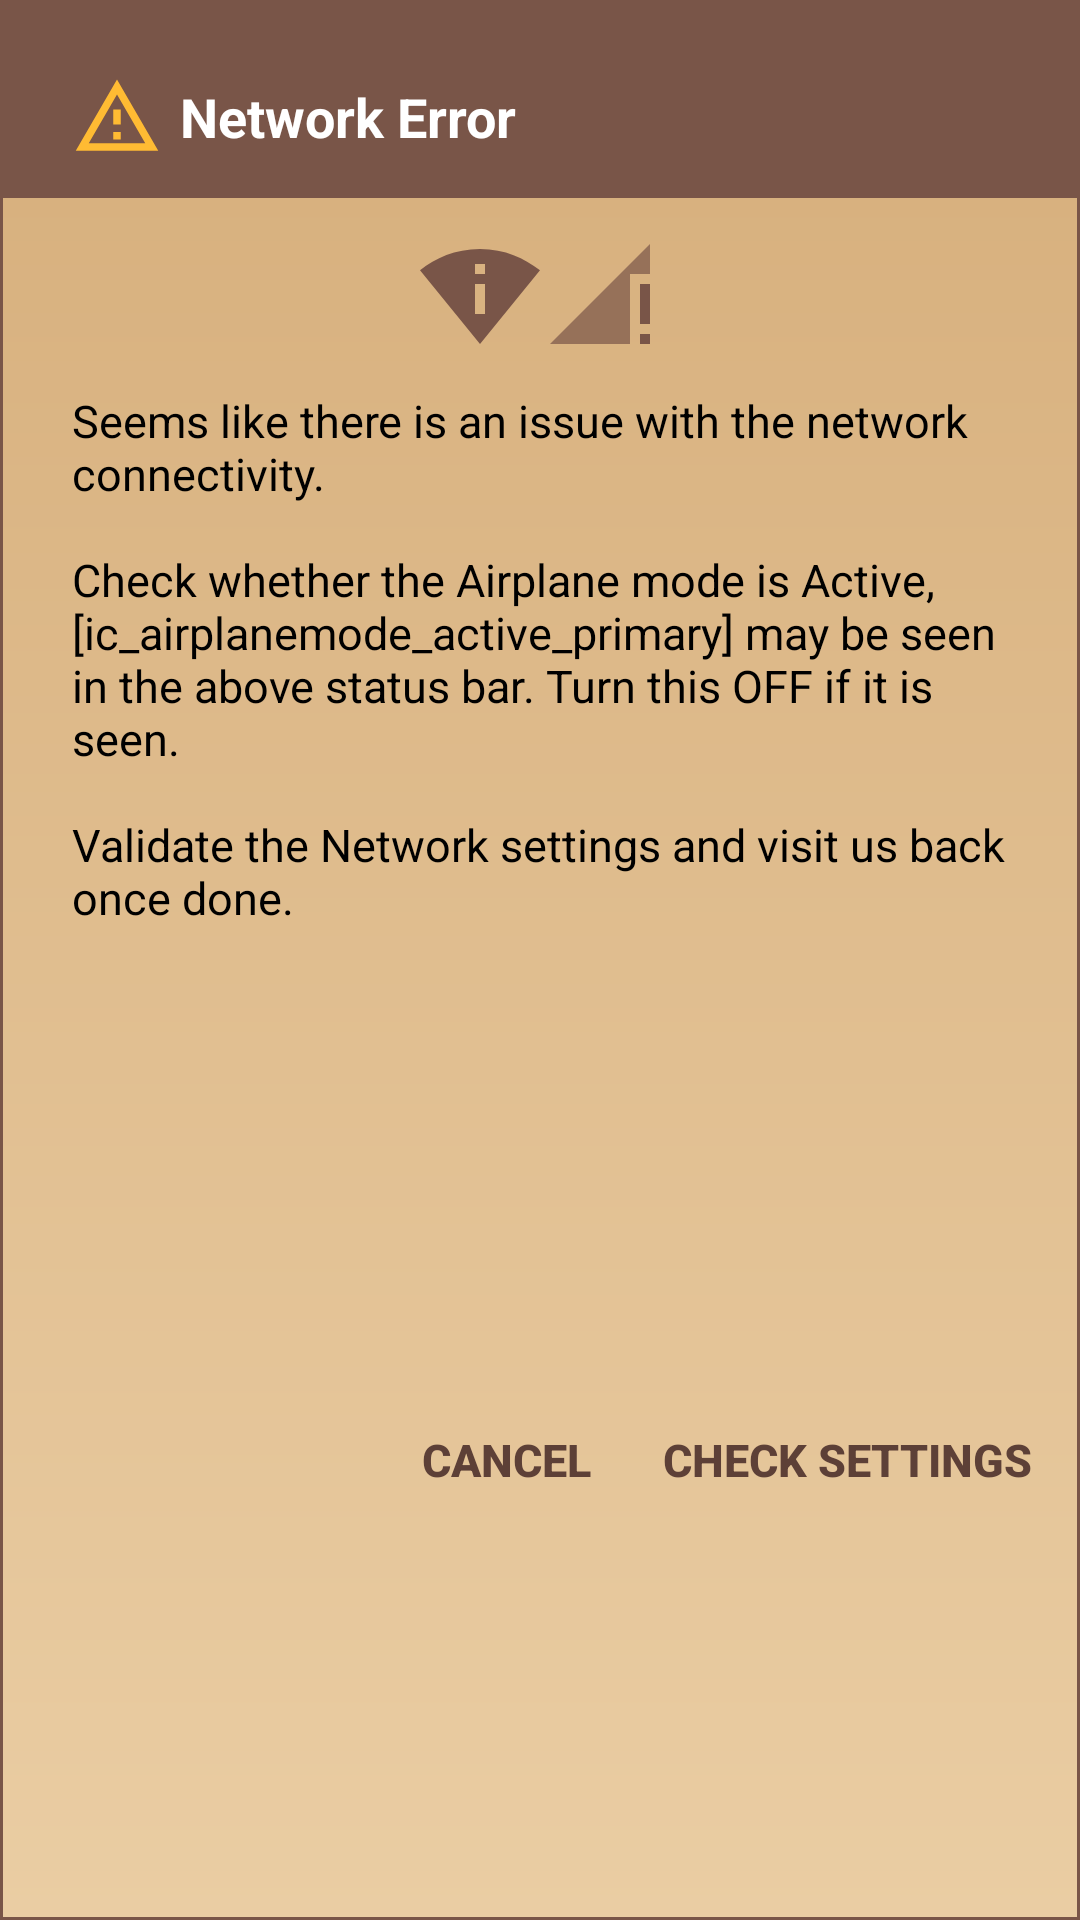

Named icons in this screenshot (1080px×1920px) and their centers, point (x, y):
no wifi signal: point (480, 296)
signal no internet: point (600, 294)
